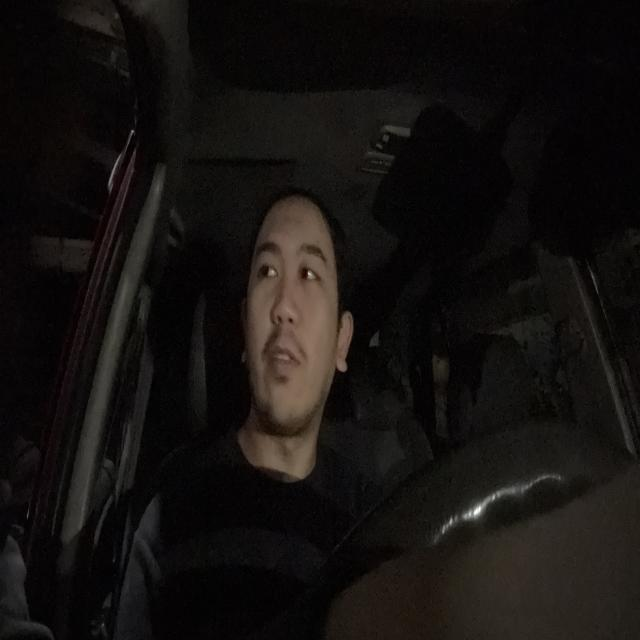open: (296, 242, 330, 294), (253, 237, 283, 290)
